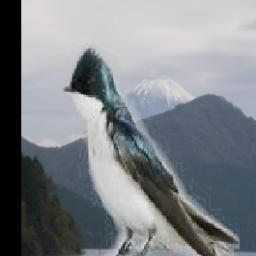Swallow: (60, 42, 241, 256)
